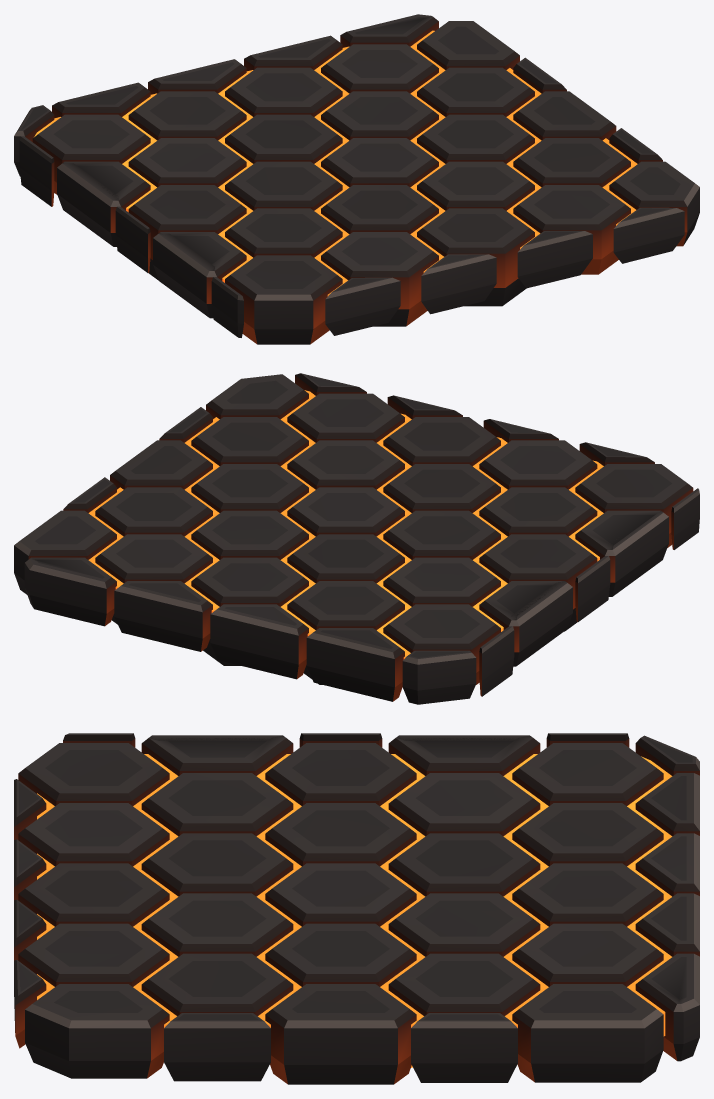
File: platform_volcano.glb
3 renders of one model, top to bottom at view 1: azimuth 30°, elevation 25°; view 2: azimuth 150°, elevation 25°; view 3: azimuth 270°, elevation 25°, orthographic. The views are drawn at different scales.
Parts seen in each view (by area): view 1: platform_volcano; view 2: platform_volcano; view 3: platform_volcano.
Boxes of the visible parts, x1,y1,x2,y2 form: platform_volcano: [14, 14, 699, 344]; platform_volcano: [14, 373, 699, 704]; platform_volcano: [14, 733, 699, 1084].
Size of the model in its own units: 3 by 0.6 by 3.
